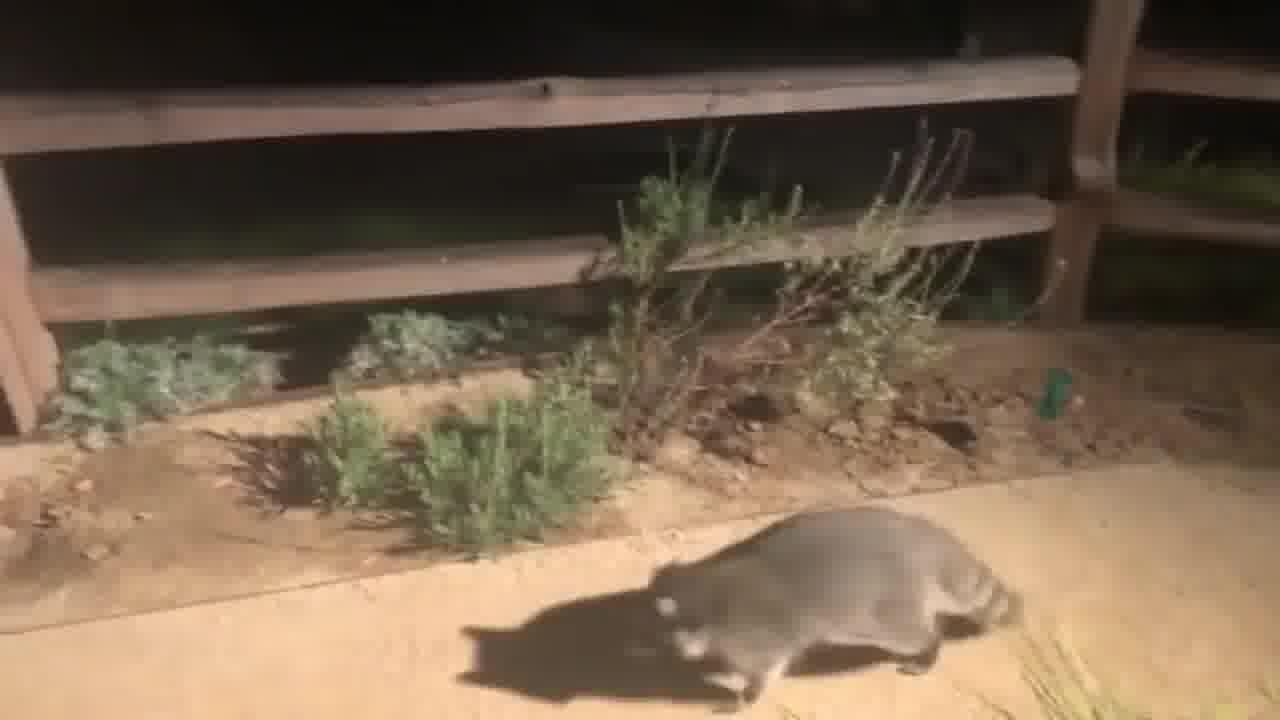raccoon: (623, 496, 1034, 718)
